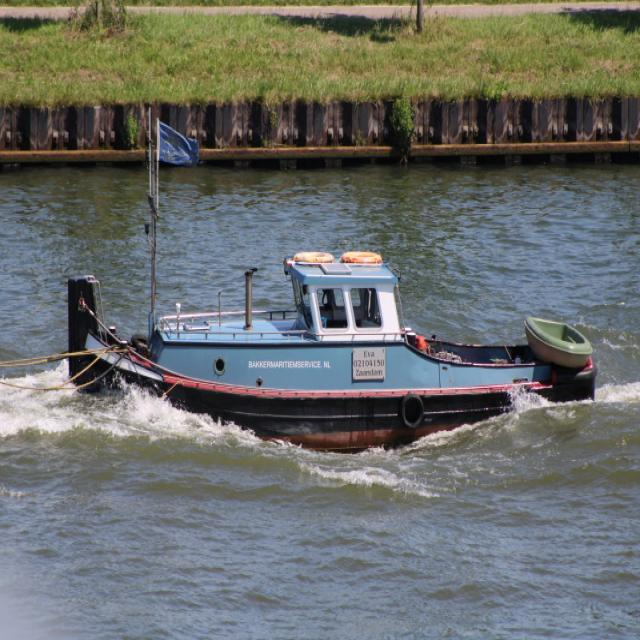tugboat: (65, 221, 604, 481)
